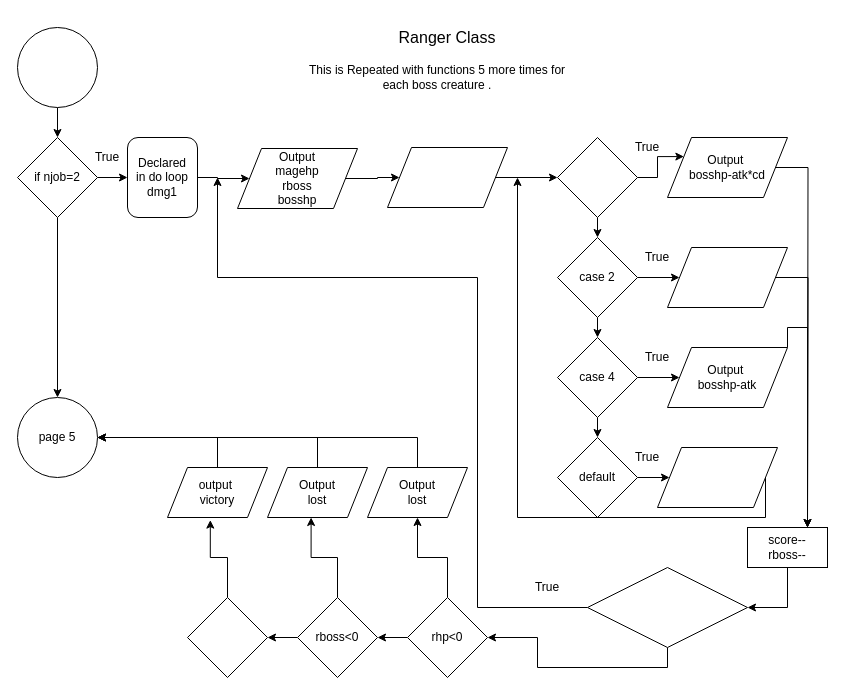
Image size: 845x695. Some labels were removed from this diagram. The shapes that lost their labels are listed below. From the top down, each one's centre as x and y in pixels, then its label:
the point at 57,67: page 4
the point at 447,177: user input dmg2
the point at 597,177: case 1
the point at 727,277: Output bosshp-atk/cd
the point at 717,477: get user input again
the point at 667,607: rhp>0 && rgob> 0 && bosshp >0
the point at 227,637: bosshp>0
